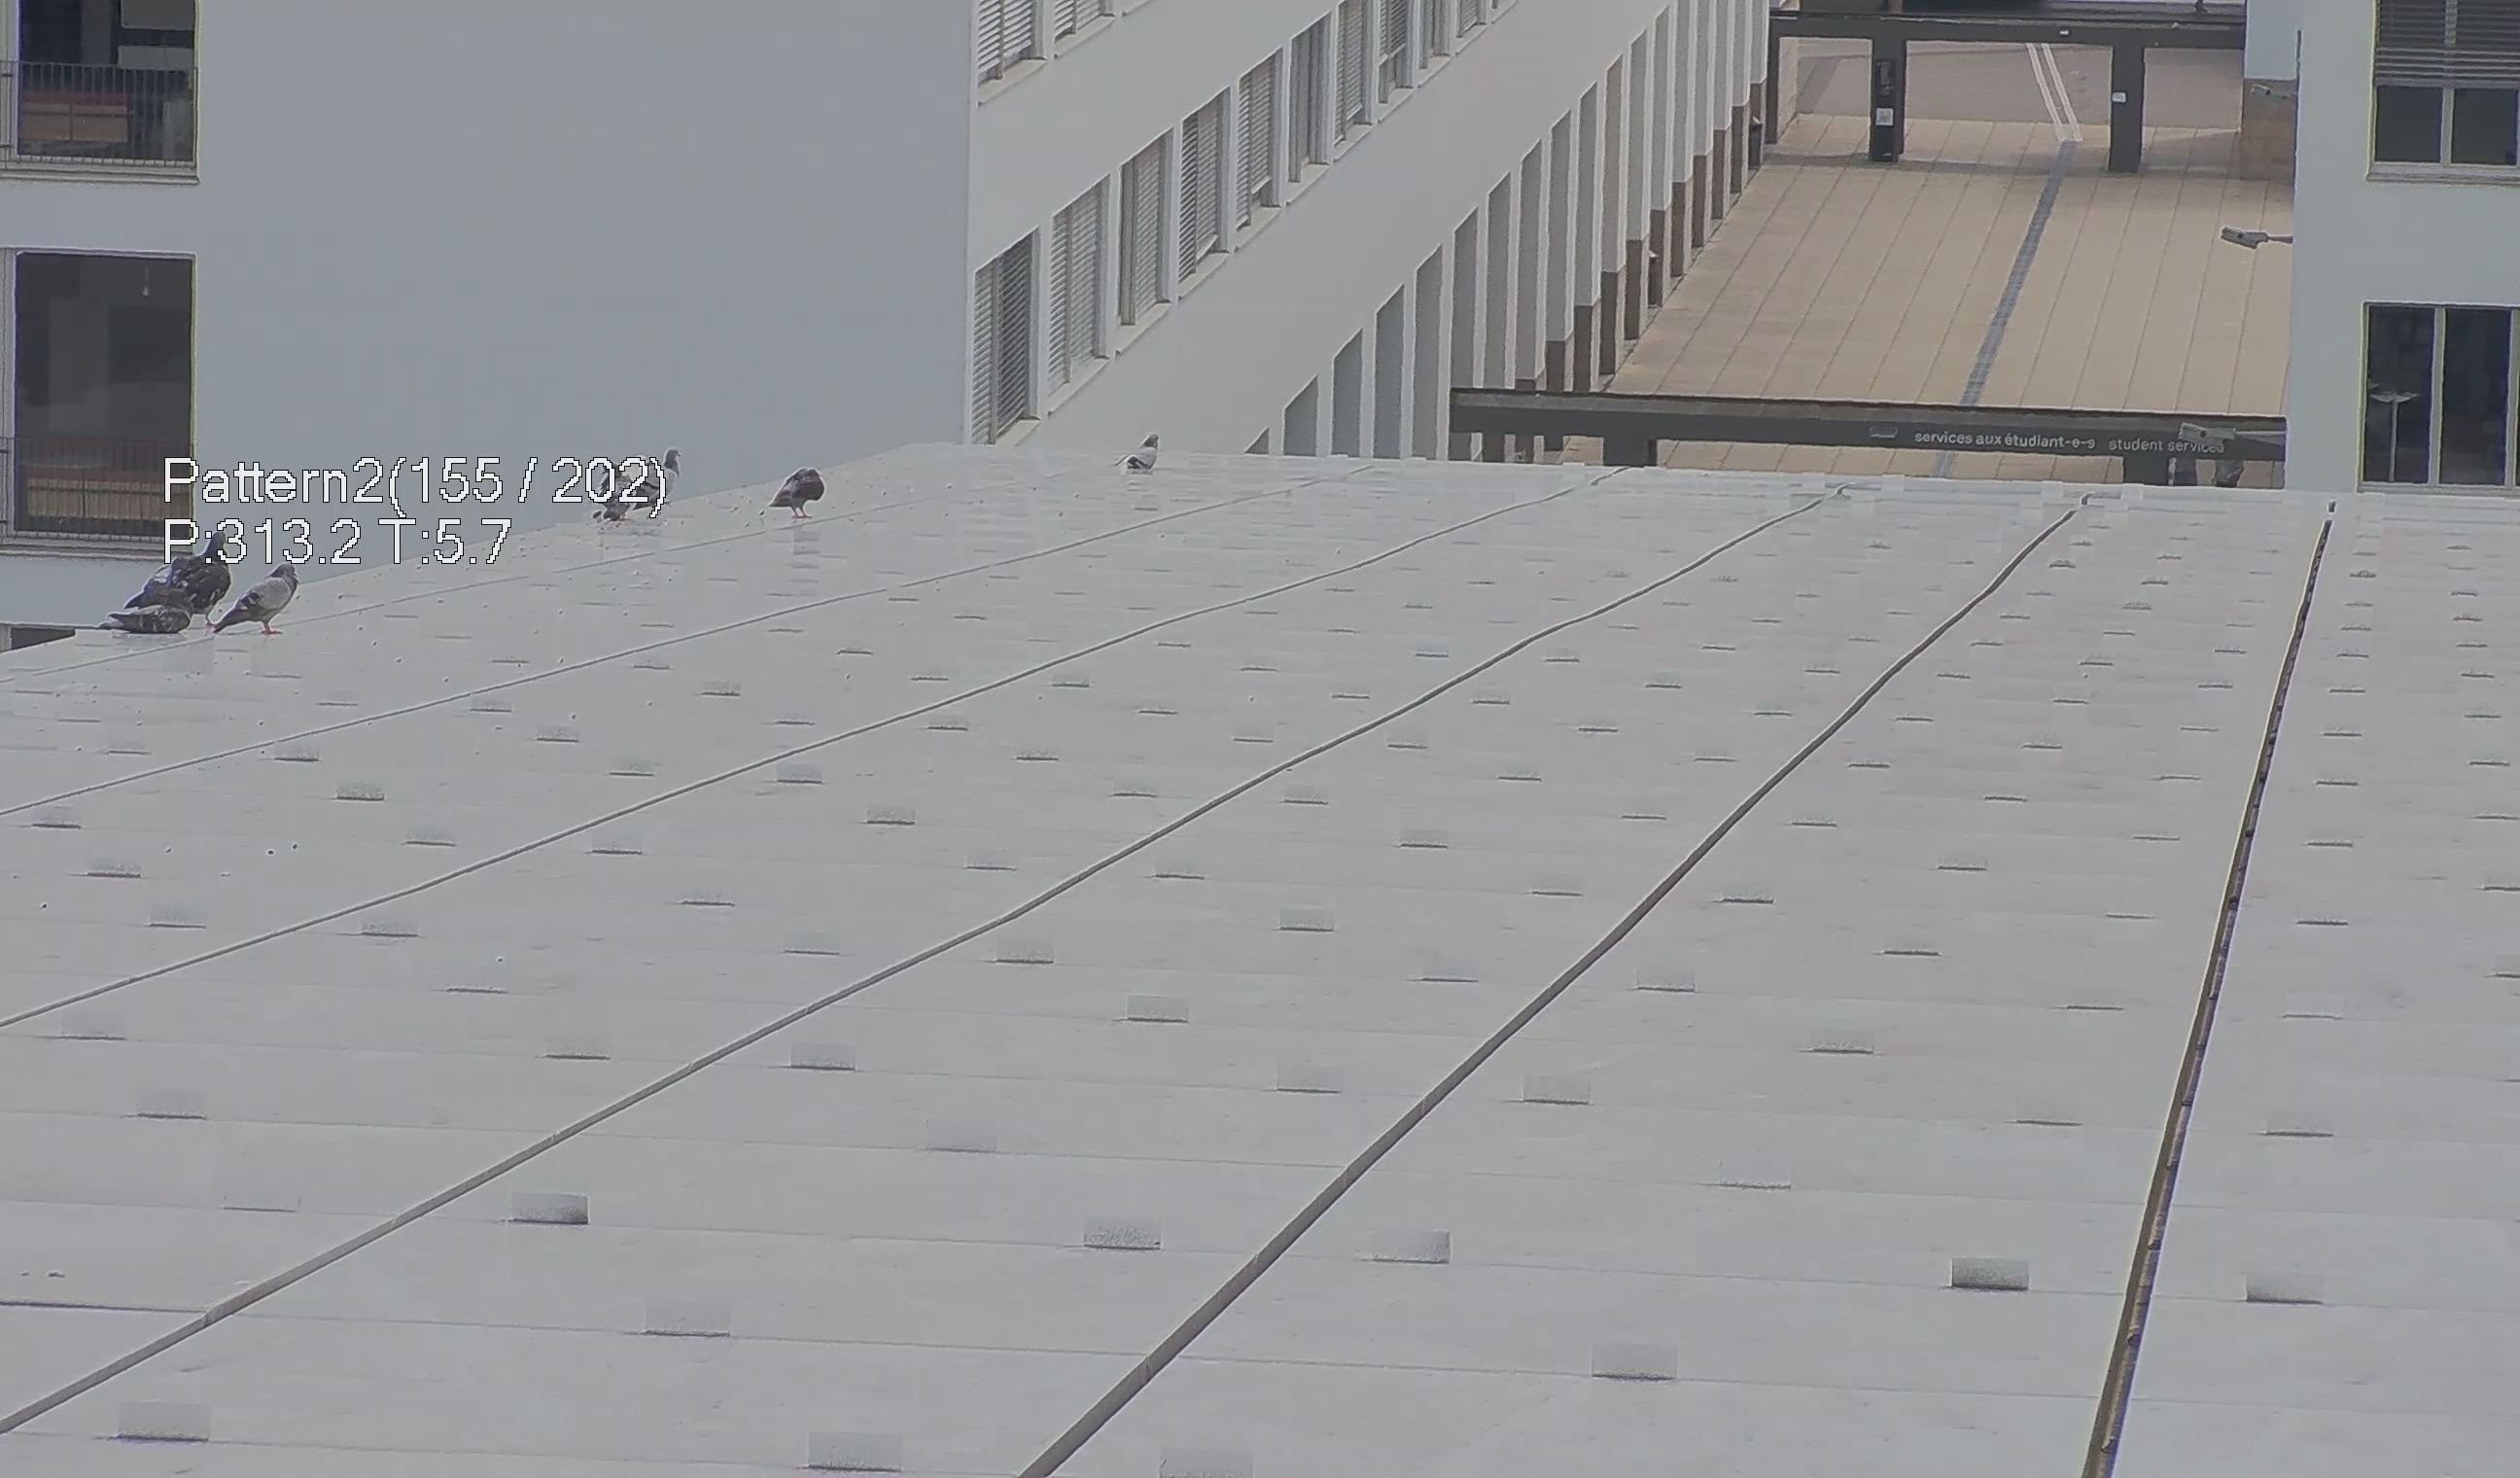Pigeon: (204, 544, 324, 653), (160, 521, 227, 616), (88, 588, 197, 644), (761, 452, 827, 524), (1111, 431, 1171, 486), (658, 442, 691, 507)
